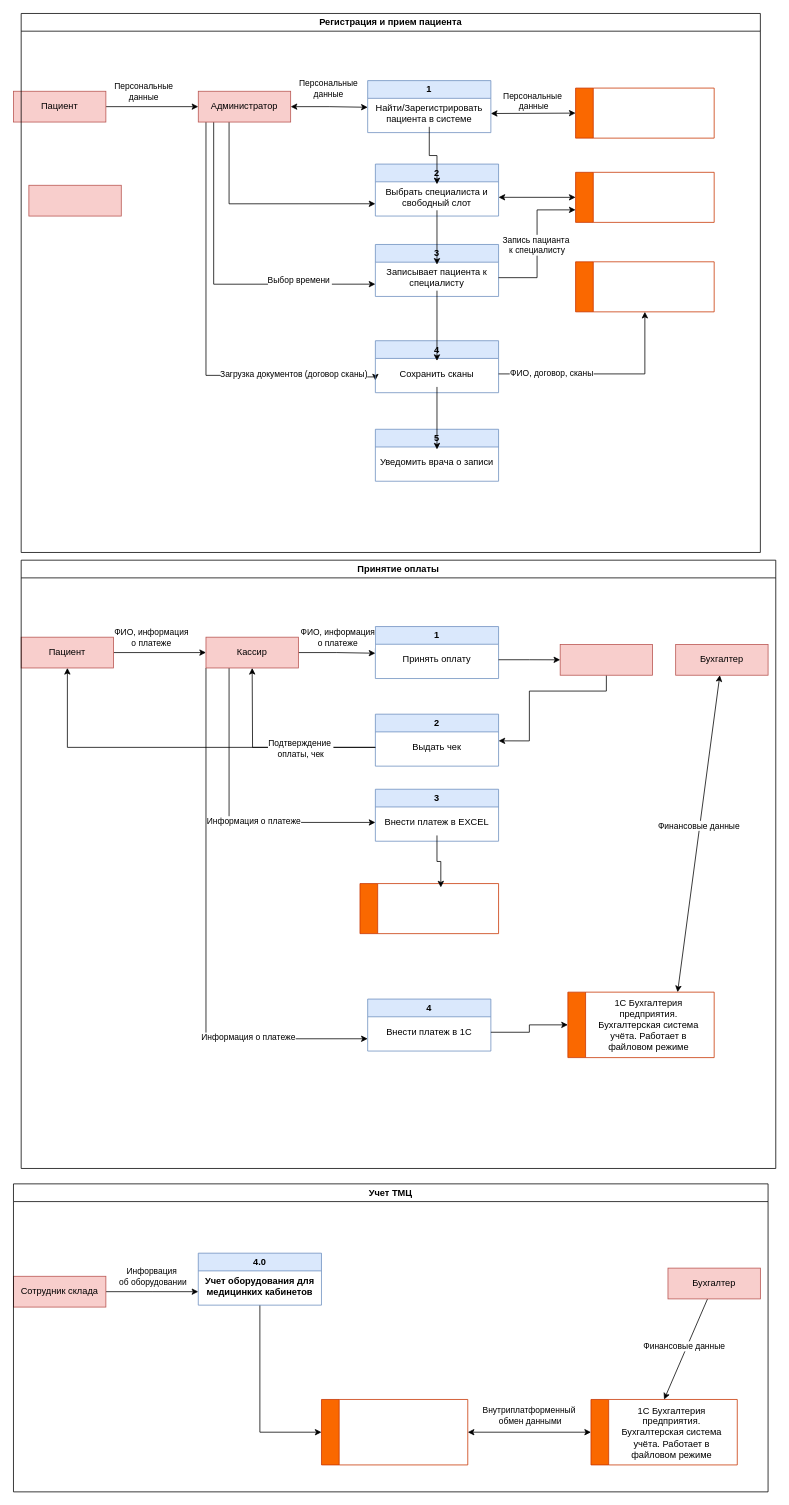
Image size: 789x1505. Some labels were removed from this diagram. Here are the shapes that lost their labels. From the top down, the centre of each, then its label:
the point at 644,112: Excel-файл со списком пациентов
the point at 74,200: Врач
the point at 644,197: Excel-файл: журнал, где регистрируют запись пациентов к одному специалисту
the point at 644,286: Файлы пациента в разных форматах
the point at 606,659: ККМ
the point at 429,908: EXECL Учет платежей
the point at 394,1432: 1C Торговля и склад. Файловое хранилище
